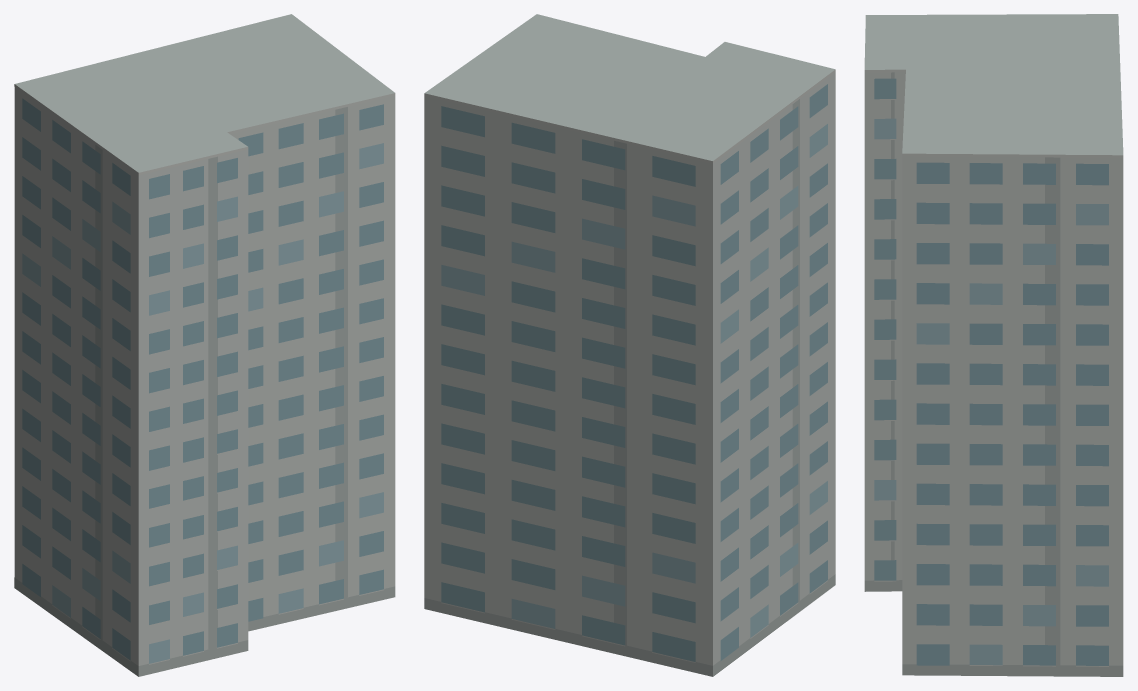
File: survey-upis-32457506.glb
3 views of the same model, side by side, from view 1: azimuth 30°, elevation 25°; view 2: azimuth 150°, elevation 25°; view 3: azimuth 270°, elevation 25° (orthographic). The views are drawn at different scales.
Parts seen in each view (by area): view 1: survey-upis-32457506.tmp; view 2: survey-upis-32457506.tmp; view 3: survey-upis-32457506.tmp.
Boxes of the visible parts, x1,y1,x2,y2 form: survey-upis-32457506.tmp: [14, 14, 395, 676]; survey-upis-32457506.tmp: [424, 14, 835, 676]; survey-upis-32457506.tmp: [864, 14, 1123, 676].
Bounding box in the file's own units: 26.71 × 46 × 20.7.
